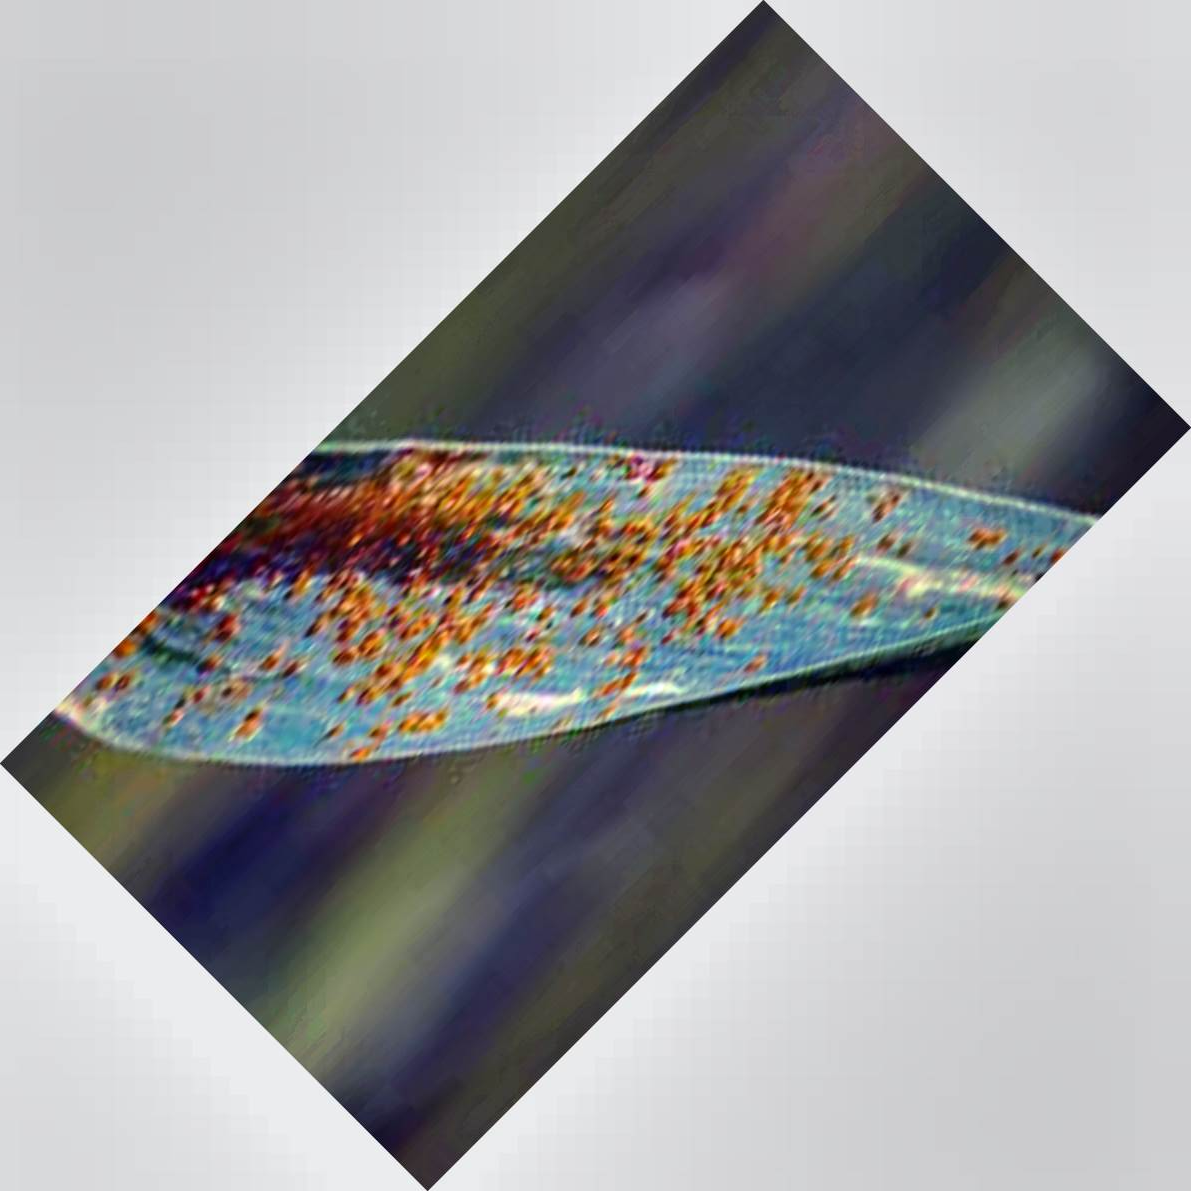Leaf Rust: (222, 418, 857, 744)
